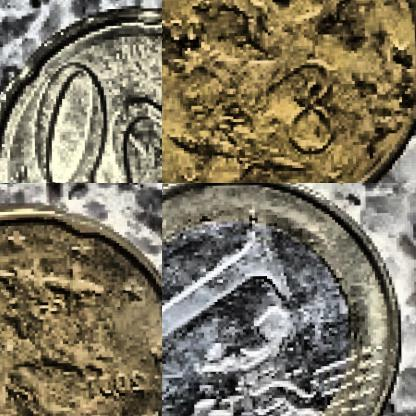coin: (162, 183, 401, 415), (162, 0, 415, 182), (0, 196, 161, 415), (0, 3, 161, 182)
